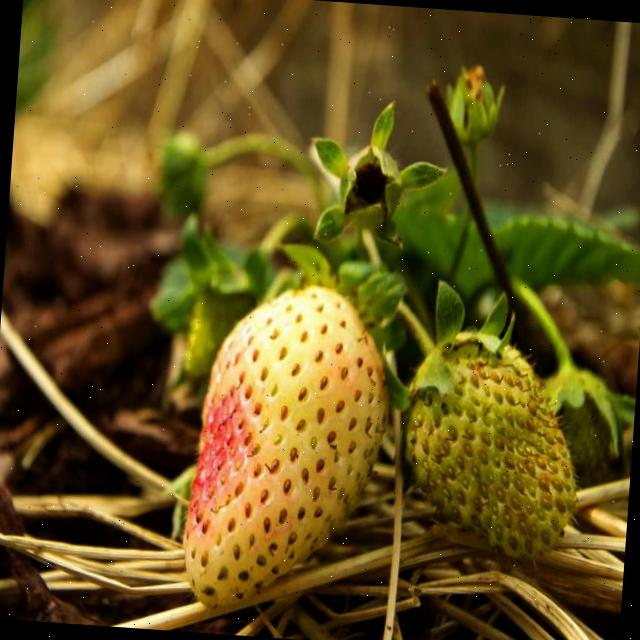strawberry: (175, 275, 394, 621), (395, 323, 583, 558)
